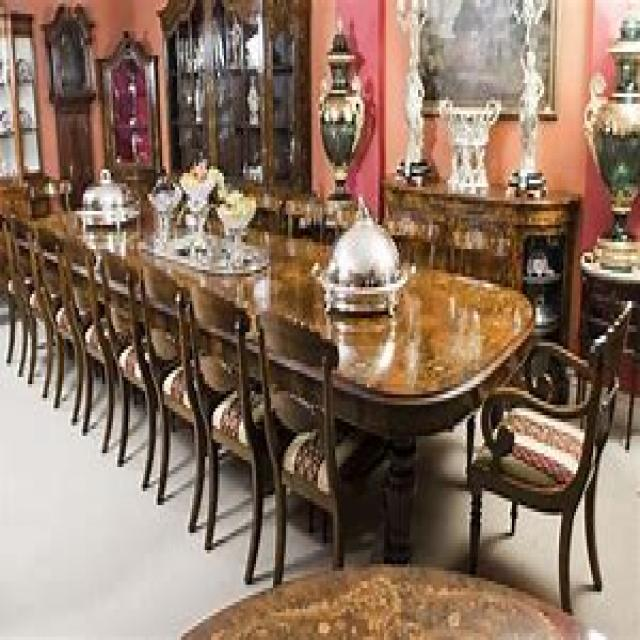chair: (465, 298, 632, 612)
